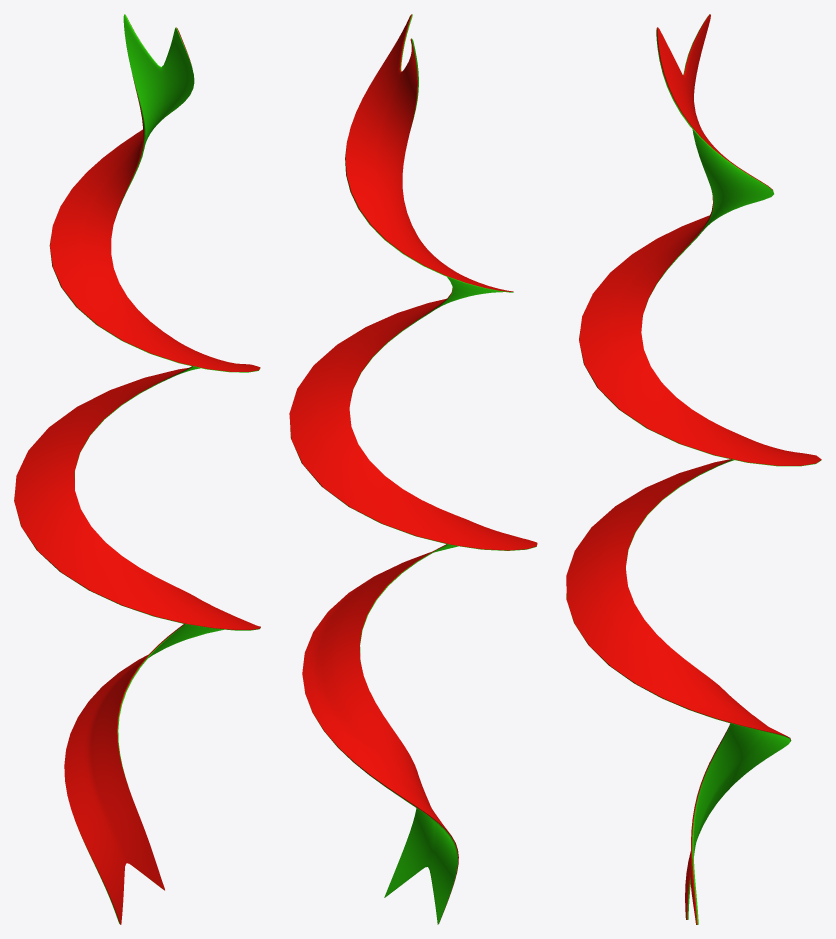
File: Ribbon.gltf
The picture shows the model from 3 angles, left to right: view 1: azimuth 30°, elevation 25°; view 2: azimuth 150°, elevation 25°; view 3: azimuth 270°, elevation 25°; orthographic projection. The views are drawn at different scales.
Parts seen in each view (by area): view 1: Cube.001; view 2: Cube.001; view 3: Cube.001.
Boxes of the visible parts, x1,y1,x2,y2 form: Cube.001: (14, 14, 260, 924); Cube.001: (289, 14, 537, 924); Cube.001: (566, 14, 821, 924).
Size of the model in its own units: 4.02 by 16.07 by 4.07.
